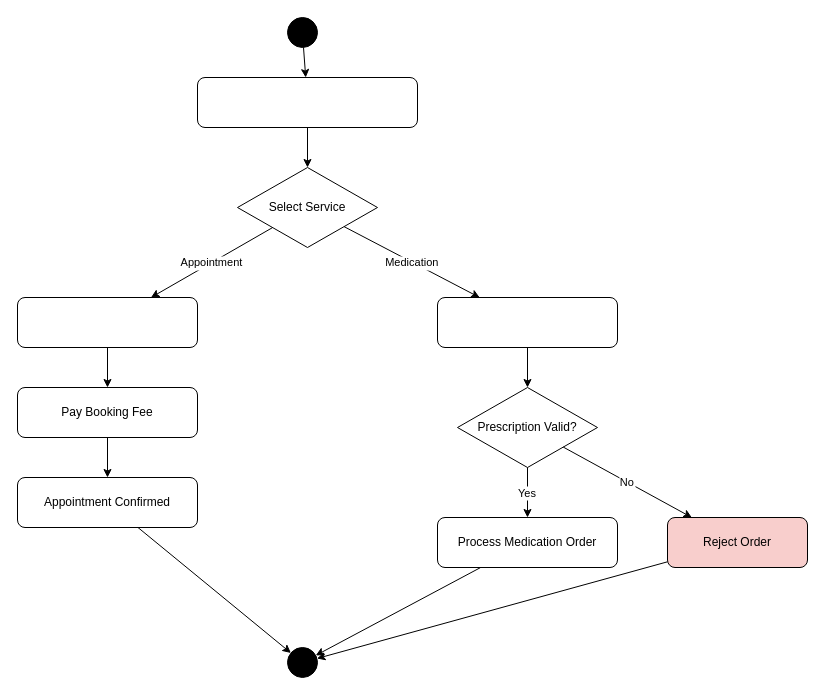
This 825x695 diagram has some shape labels left out. The shapes that lost their labels are listed below. From the top down, each one's centre as x and y in pixels, then its label:
[307,102]: Patient Logs into System
[107,322]: Book Appointment
[527,322]: Order Medication
